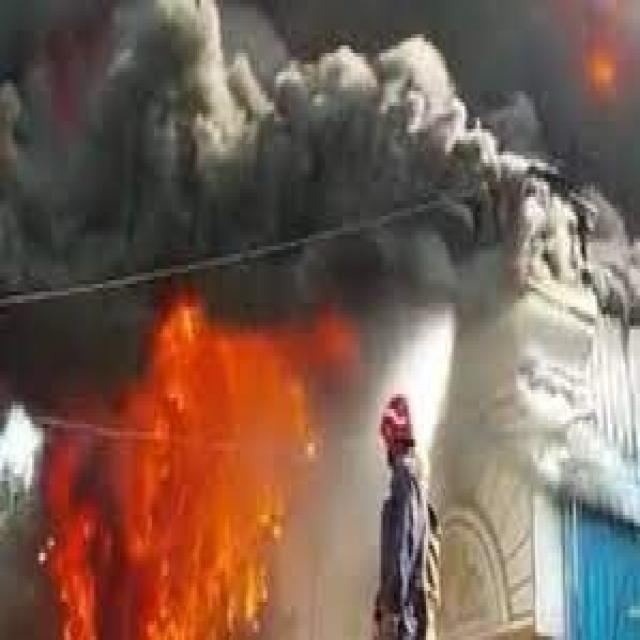fire: (38, 291, 353, 640)
smoke: (2, 4, 636, 288)
